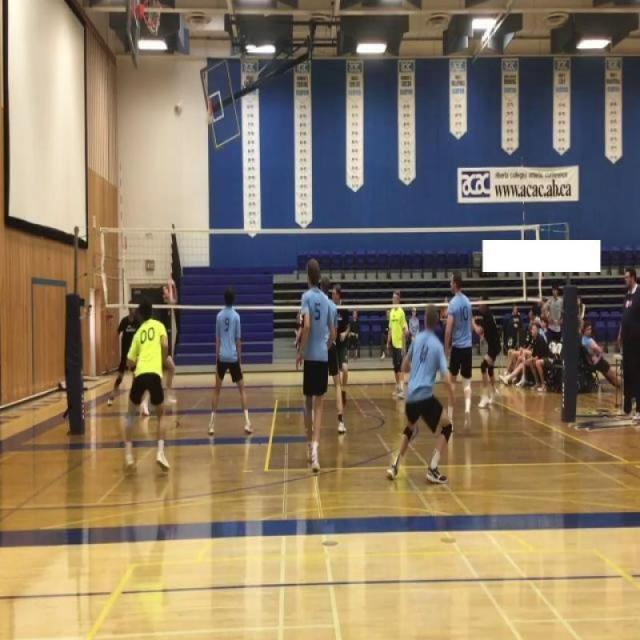volleyball: (174, 102, 182, 116)
